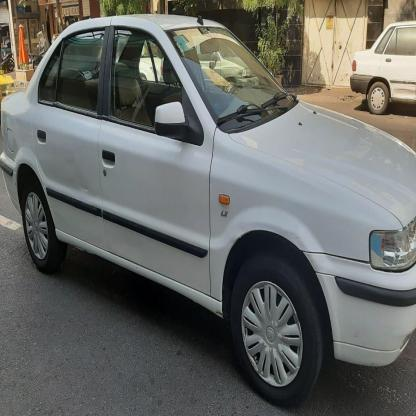Car: (0, 0, 416, 411), (348, 25, 416, 106)
